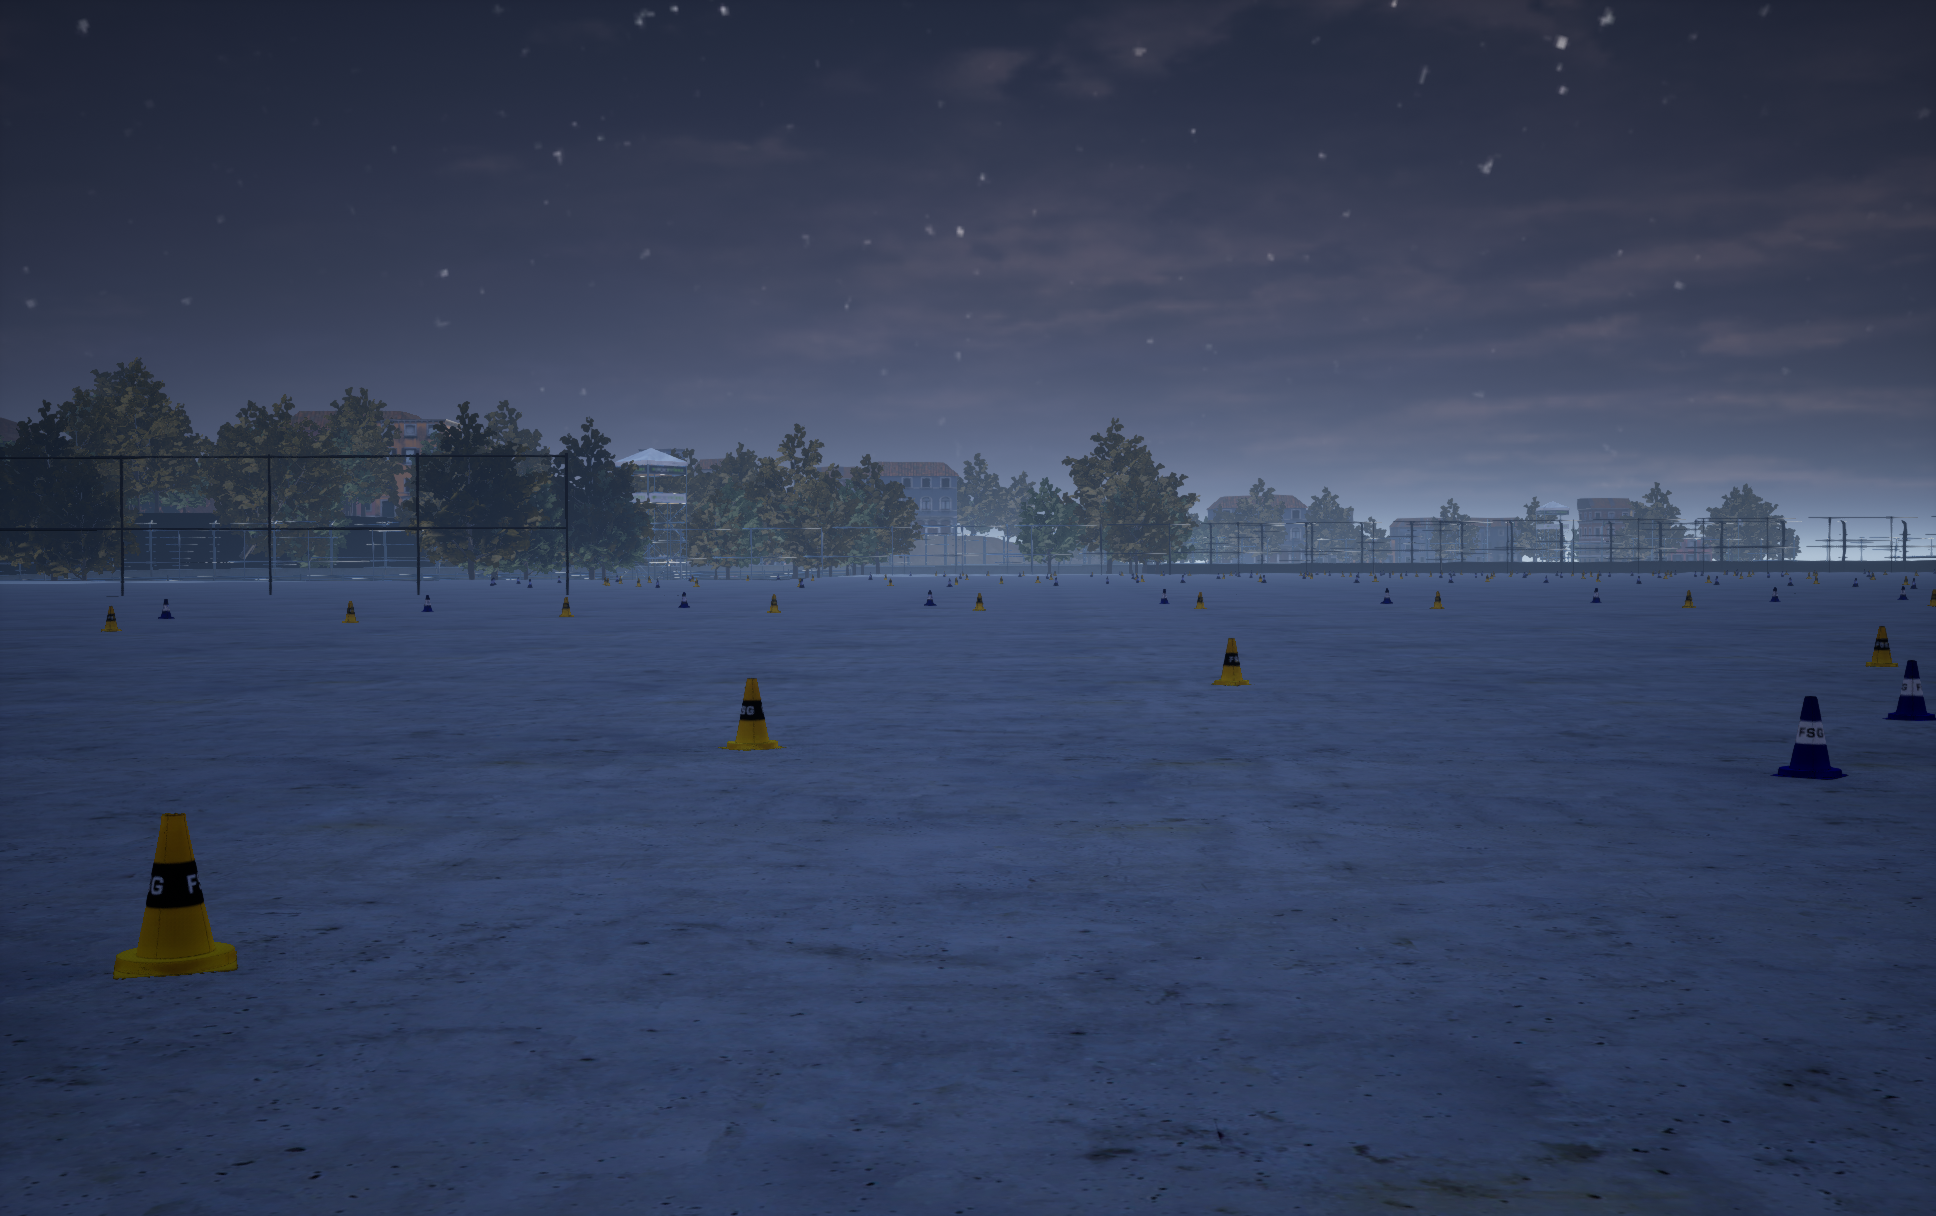blue: (113, 813, 237, 979), (719, 678, 786, 749), (1210, 637, 1254, 685), (1865, 626, 1898, 665), (101, 607, 120, 630), (342, 601, 359, 622), (559, 597, 573, 616), (768, 594, 780, 612), (972, 593, 985, 609)
yellow: (1771, 696, 1848, 779), (1881, 660, 1935, 720), (158, 600, 174, 618)
